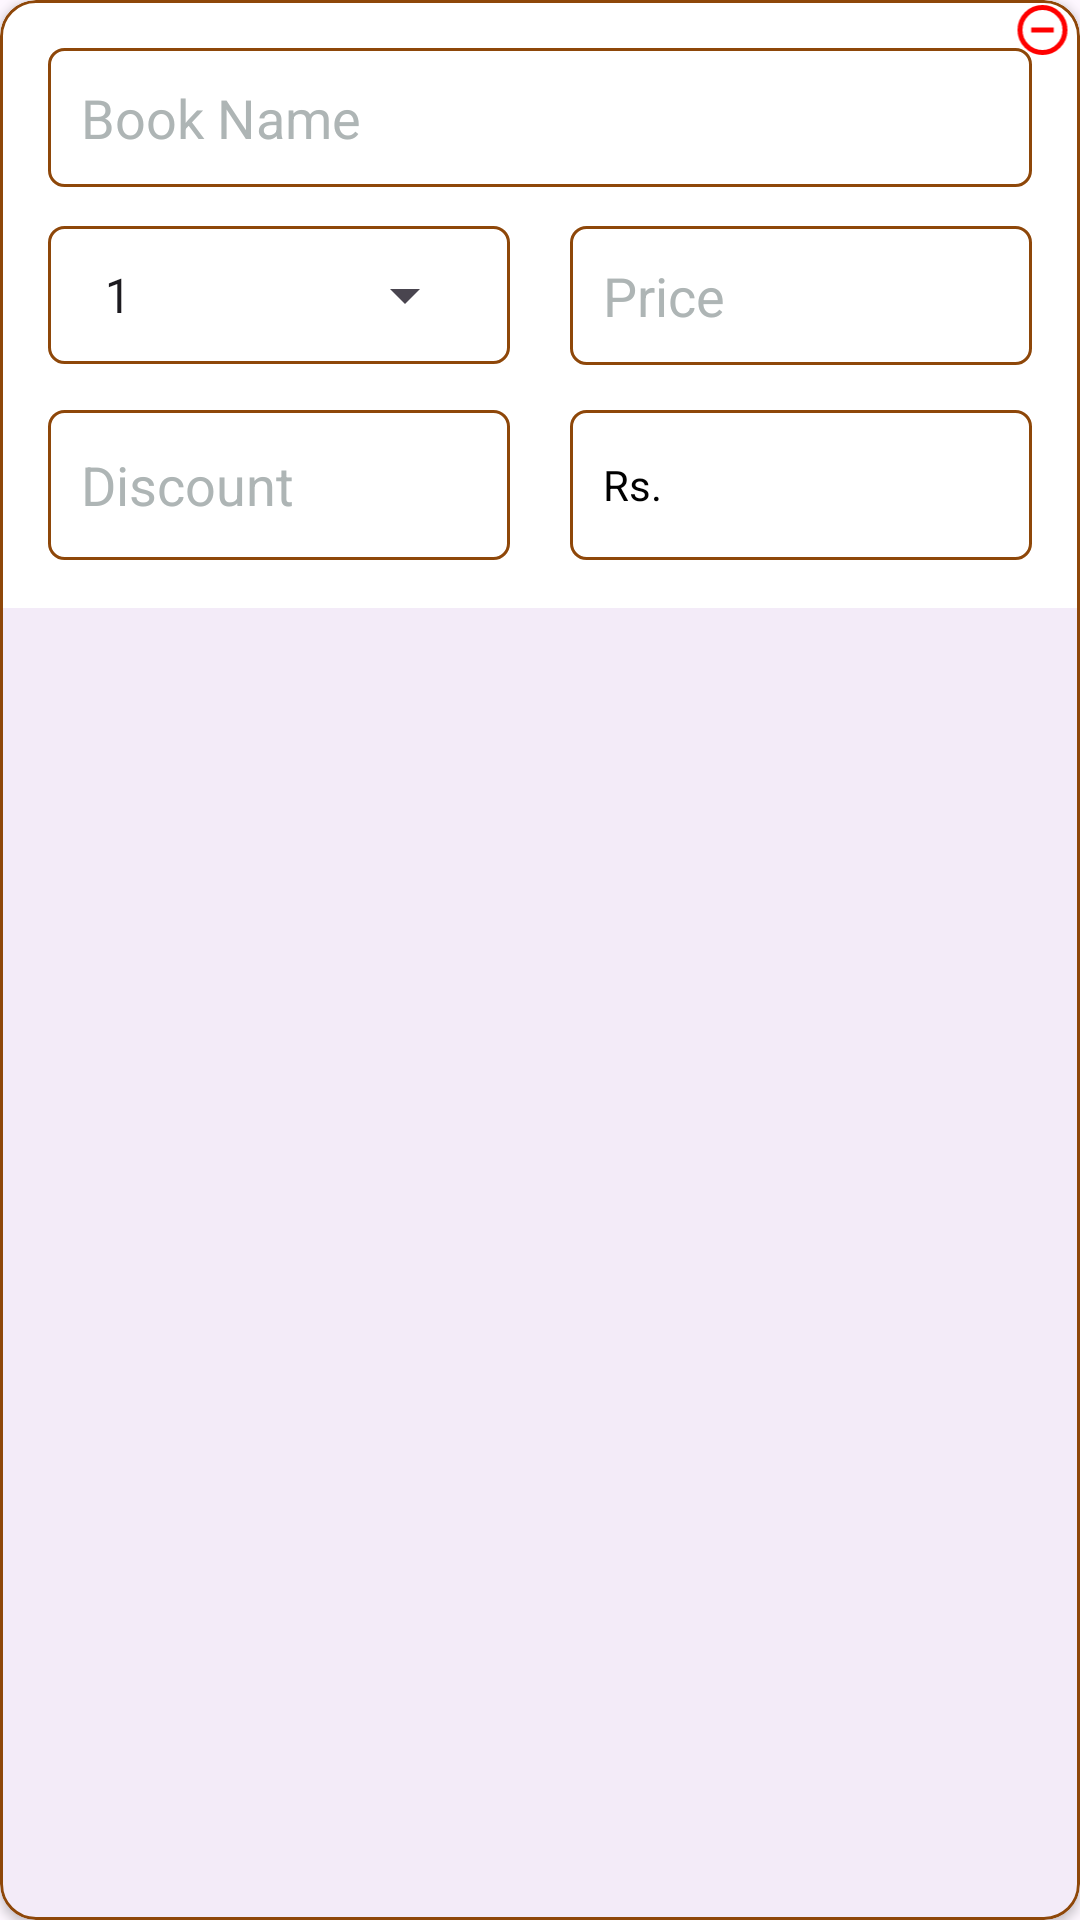

Icons on this 1080w x 1920h Android screen, each with the point to tap as [x,y]:
remove: [1042,30]
